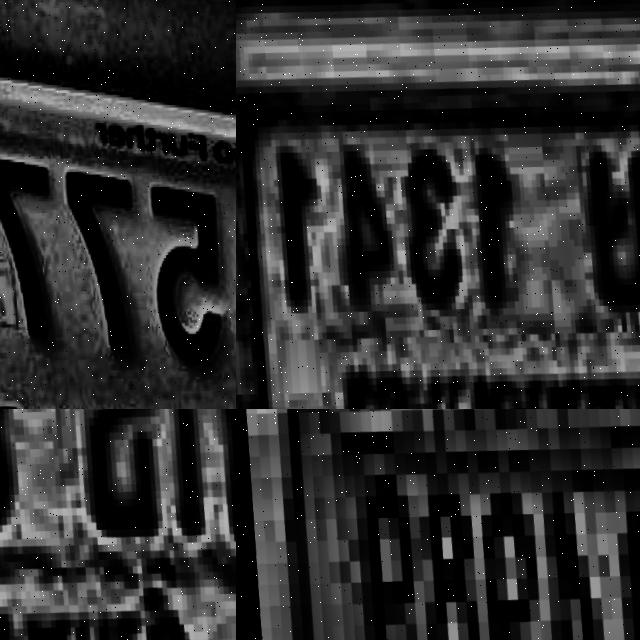license-plate: (236, 57, 640, 409), (0, 0, 236, 409), (236, 409, 640, 640), (0, 409, 236, 640)
